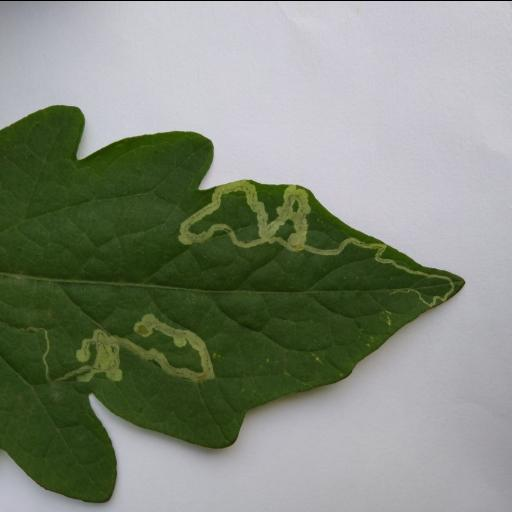Leaf Miner: (0, 104, 472, 502)
